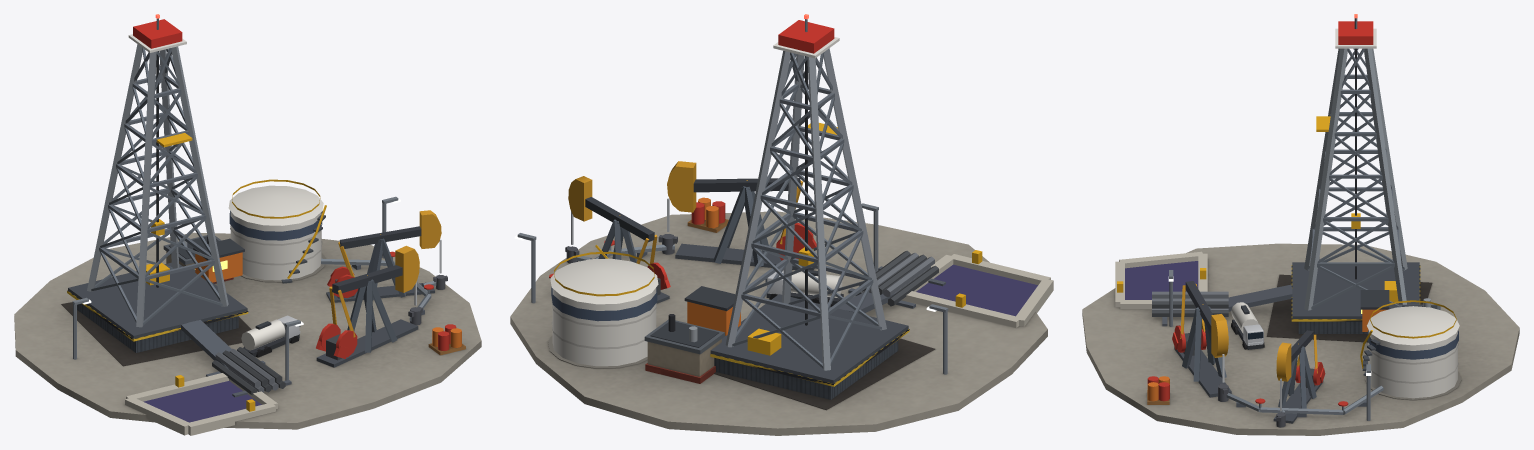
The model's file is oil_l2.glb.
3 views of the same model, side by side, from view 1: azimuth 30°, elevation 25°; view 2: azimuth 150°, elevation 25°; view 3: azimuth 270°, elevation 25° (orthographic). The views are drawn at different scales.
Parts seen in each view (by area): view 1: oil_l2; view 2: oil_l2; view 3: oil_l2.
Part boxes in pixels (x1,y1,x2,y2): oil_l2: (14, 14, 481, 435); oil_l2: (510, 14, 1053, 435); oil_l2: (1082, 14, 1519, 435).
Size of the model in its own units: 1.38 by 1.04 by 1.37.
Materials: 5 (1 with a texture image).
